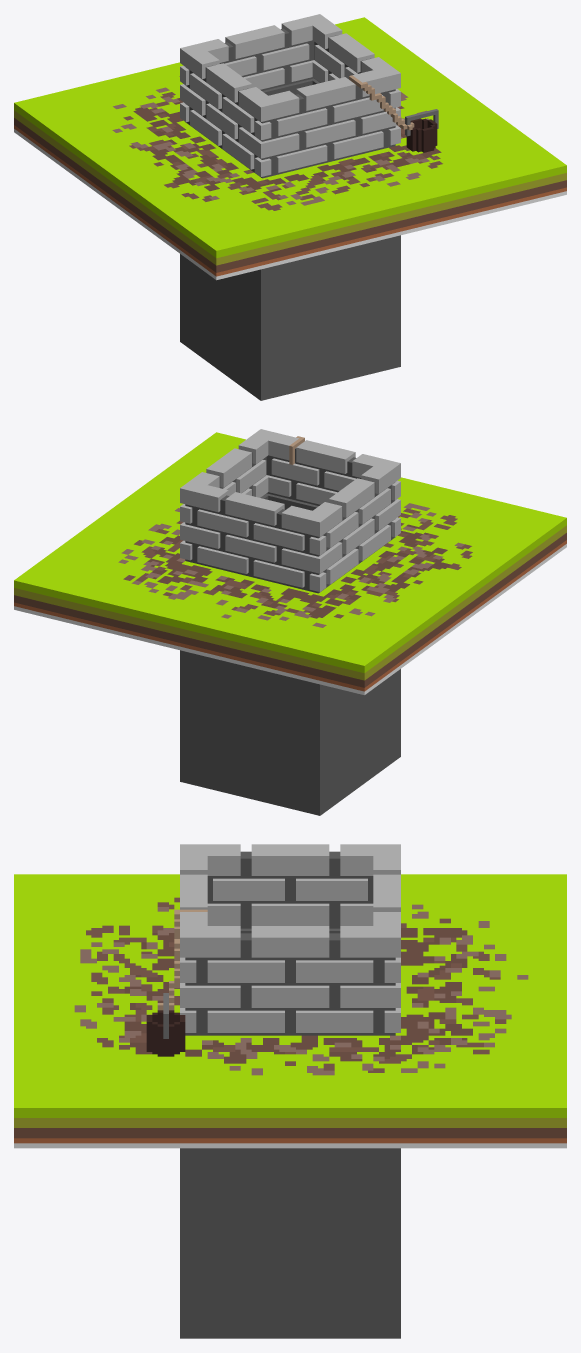
File: GreatWorld-1-Well.obj
3 renders of one model, top to bottom at view 1: azimuth 30°, elevation 25°; view 2: azimuth 150°, elevation 25°; view 3: azimuth 270°, elevation 25°, orthographic. The views are drawn at different scales.
Parts seen in each view (by area): view 1: Well; view 2: Well; view 3: Well.
Boxes of the visible parts, x1,y1,x2,y2 form: Well: [14, 14, 566, 400]; Well: [14, 429, 566, 815]; Well: [14, 844, 566, 1338].
Bounding box in the file's own units: 10 × 8 × 10.
1 material, 1 textured.
